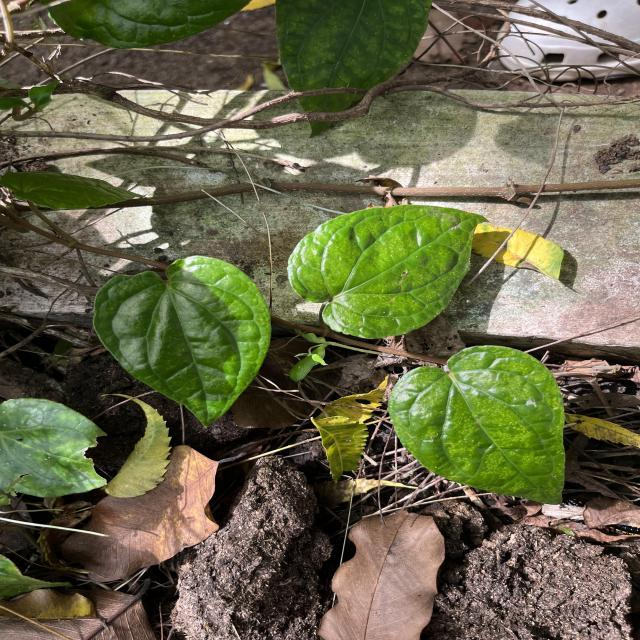Piper betle: (90, 254, 274, 432), (386, 343, 567, 506), (285, 204, 492, 340)
